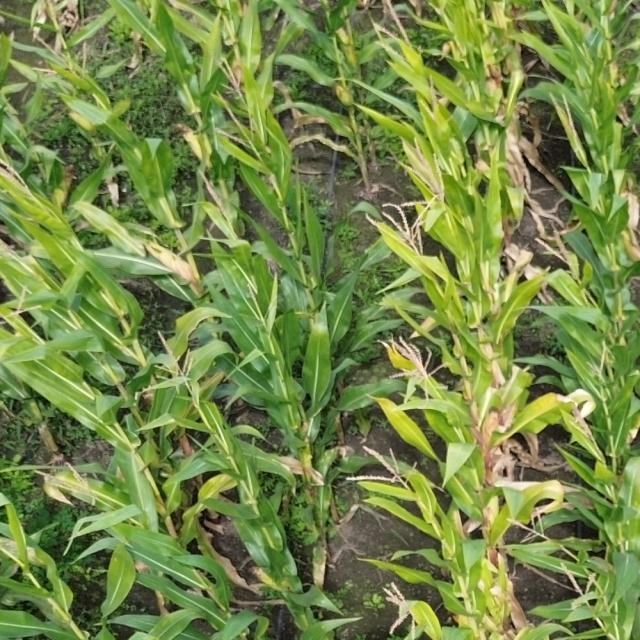northern-leaf-blight: (487, 211, 522, 255)
southern-leaf-blight: (142, 610, 201, 640)
